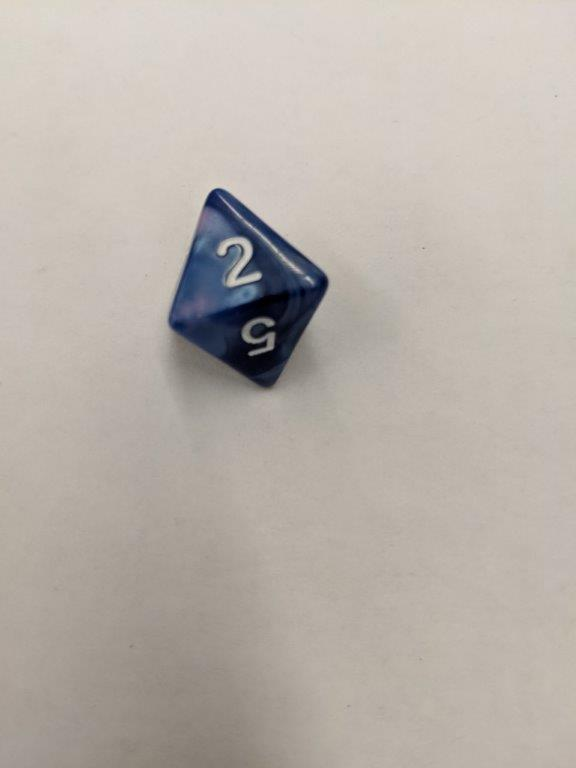d8-2: (165, 186, 330, 391)
